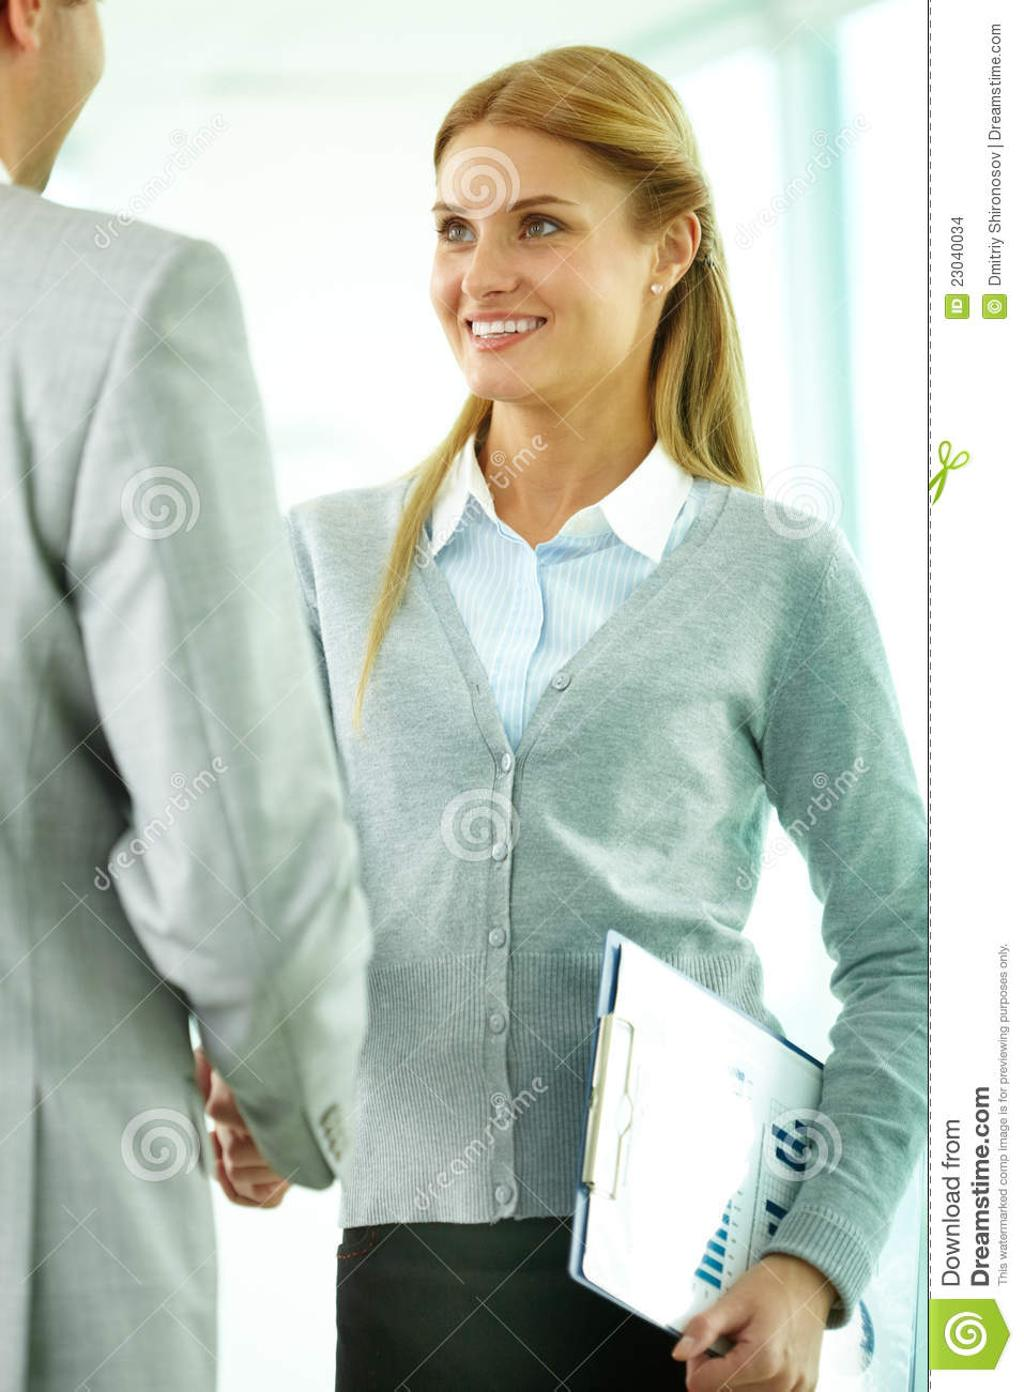face: (440, 141, 633, 399)
